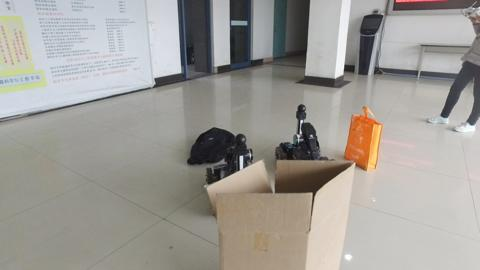bag: (345, 106, 382, 172)
chariot: (277, 102, 327, 161)
